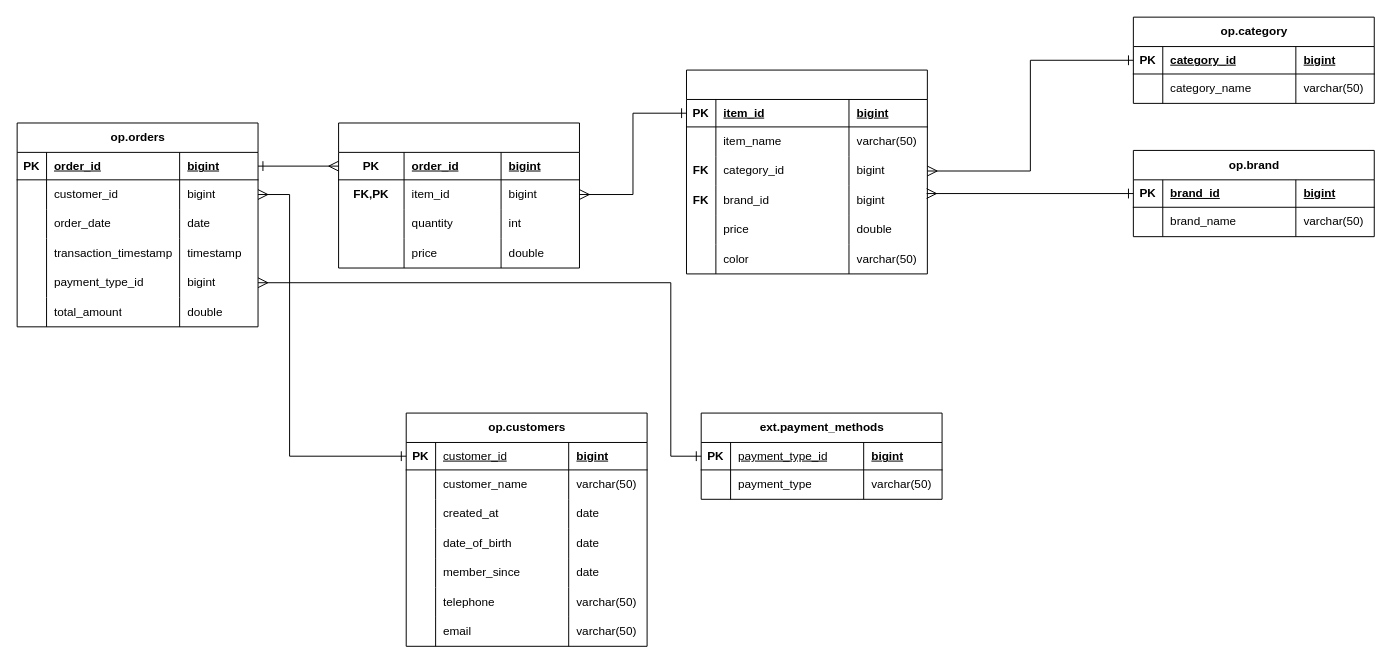
This 1392x663 diagram has some shape labels left out. Each missing label, with the box of its shape:
op.items: (686, 69, 927, 274)
op.order_details: (338, 122, 579, 268)
